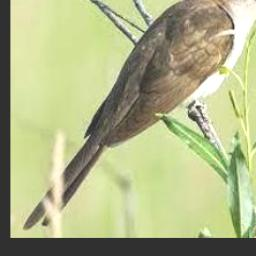Cuckoo: (22, 0, 256, 231)
